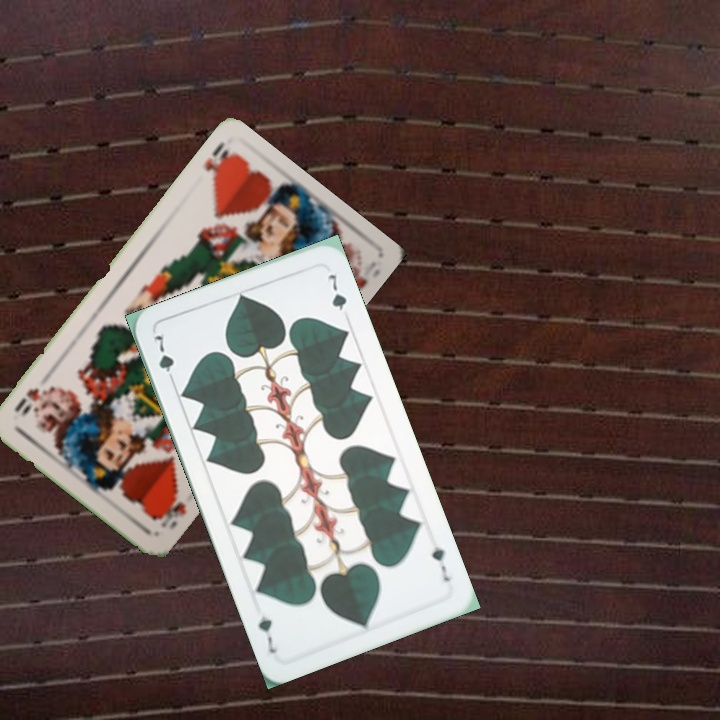G7: (150, 330, 178, 387), (427, 542, 453, 584)
HO: (200, 138, 238, 187), (151, 492, 189, 532)
